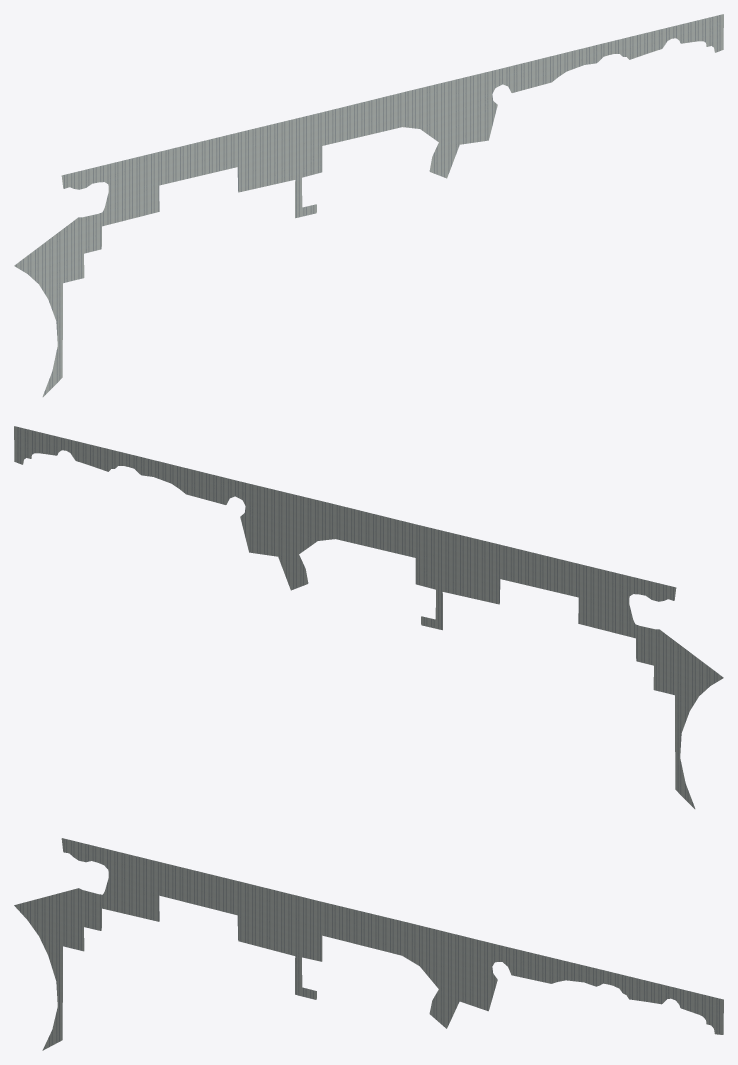
The model's file is floor_53.obj.
The picture shows the model from 3 angles, top to bottom: view 1: azimuth 30°, elevation 25°; view 2: azimuth 150°, elevation 25°; view 3: azimuth 330°, elevation 25°; orthographic projection.
Parts seen in each view (by area): view 1: floor_53; view 2: floor_53; view 3: floor_53.
Boxes of the visible parts, x1=… form: floor_53: x1=14, y1=14, x2=723, y2=396; floor_53: x1=14, y1=426, x2=723, y2=808; floor_53: x1=14, y1=838, x2=723, y2=1050.
Bounding box in the file's own units: 97.82 × 28.64 × 0.1.
1 material, 1 textured.
